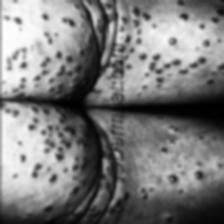Unclassified: (164, 38, 178, 48), (193, 170, 204, 180), (167, 174, 177, 184)
